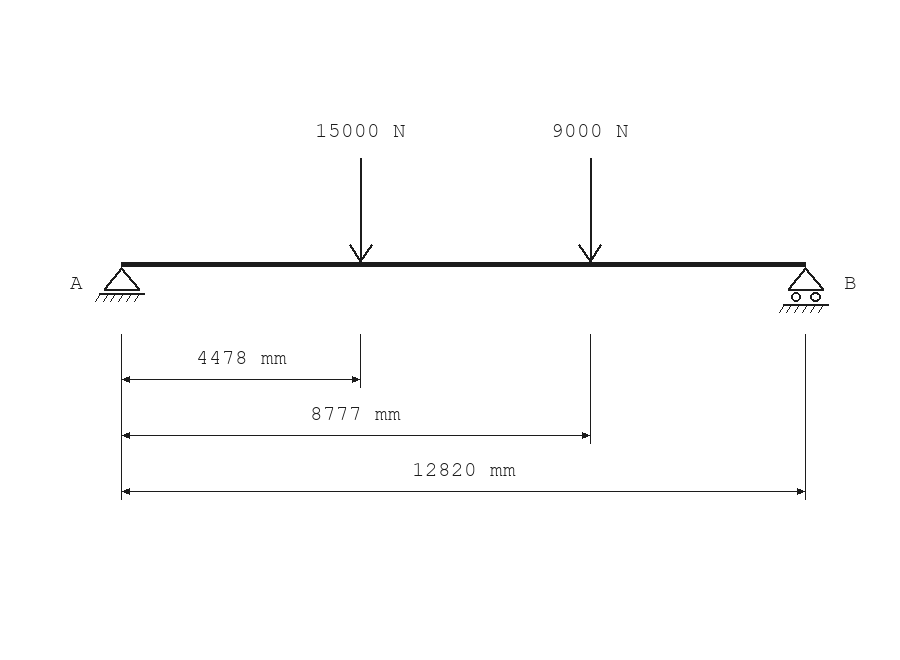pin_support: (95, 267, 145, 302)
point_load: (349, 158, 373, 263), (578, 158, 602, 263)
roller_support: (779, 267, 829, 313)
